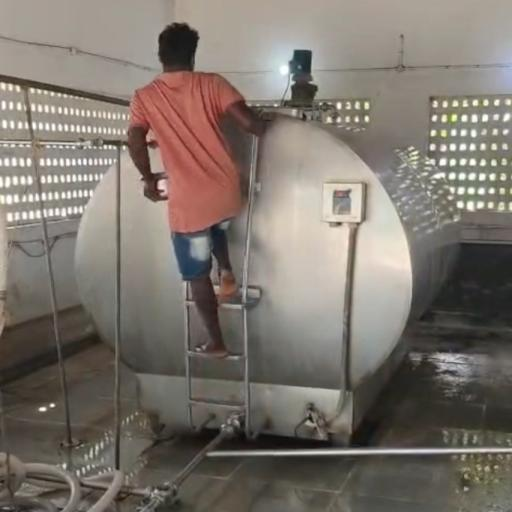silo: (75, 105, 463, 438)
vessel: (138, 171, 167, 202)
